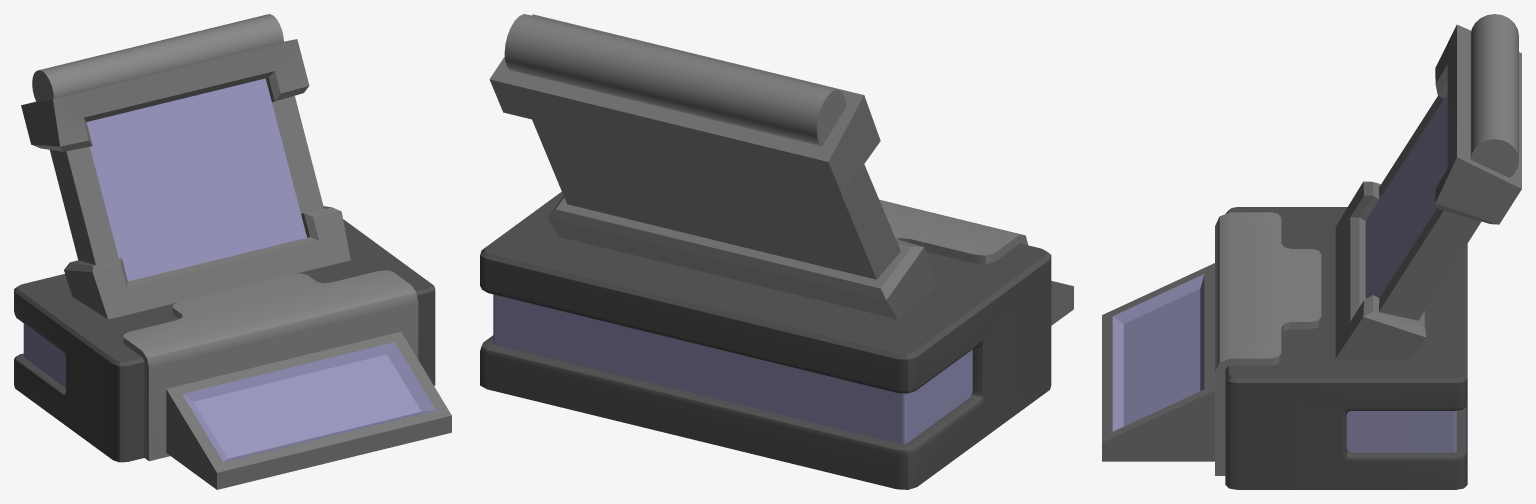
File: Ordinateur.fbx
3 views of the same model, side by side, from view 1: azimuth 30°, elevation 25°; view 2: azimuth 150°, elevation 25°; view 3: azimuth 270°, elevation 25° (orthographic). The views are drawn at different scales.
Parts seen in each view (by area): view 1: Ordinateur; view 2: Ordinateur; view 3: Ordinateur.
Part boxes in pixels (x1=…): Ordinateur: x1=14, y1=14, x2=451, y2=489; Ordinateur: x1=480, y1=14, x2=1073, y2=489; Ordinateur: x1=1102, y1=14, x2=1521, y2=489.
Bounding box in the file's own units: 59.75 × 52.07 × 60.75.
